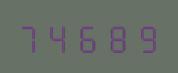eight: (102, 20, 129, 53)
four: (46, 20, 73, 53)
nine: (130, 20, 157, 53)
seven: (18, 20, 45, 53)
six: (74, 20, 101, 53)
